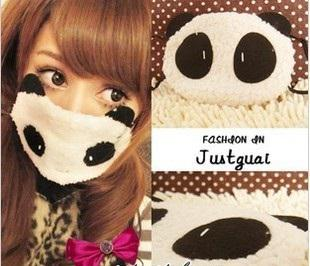OK: (21, 50, 143, 185)
